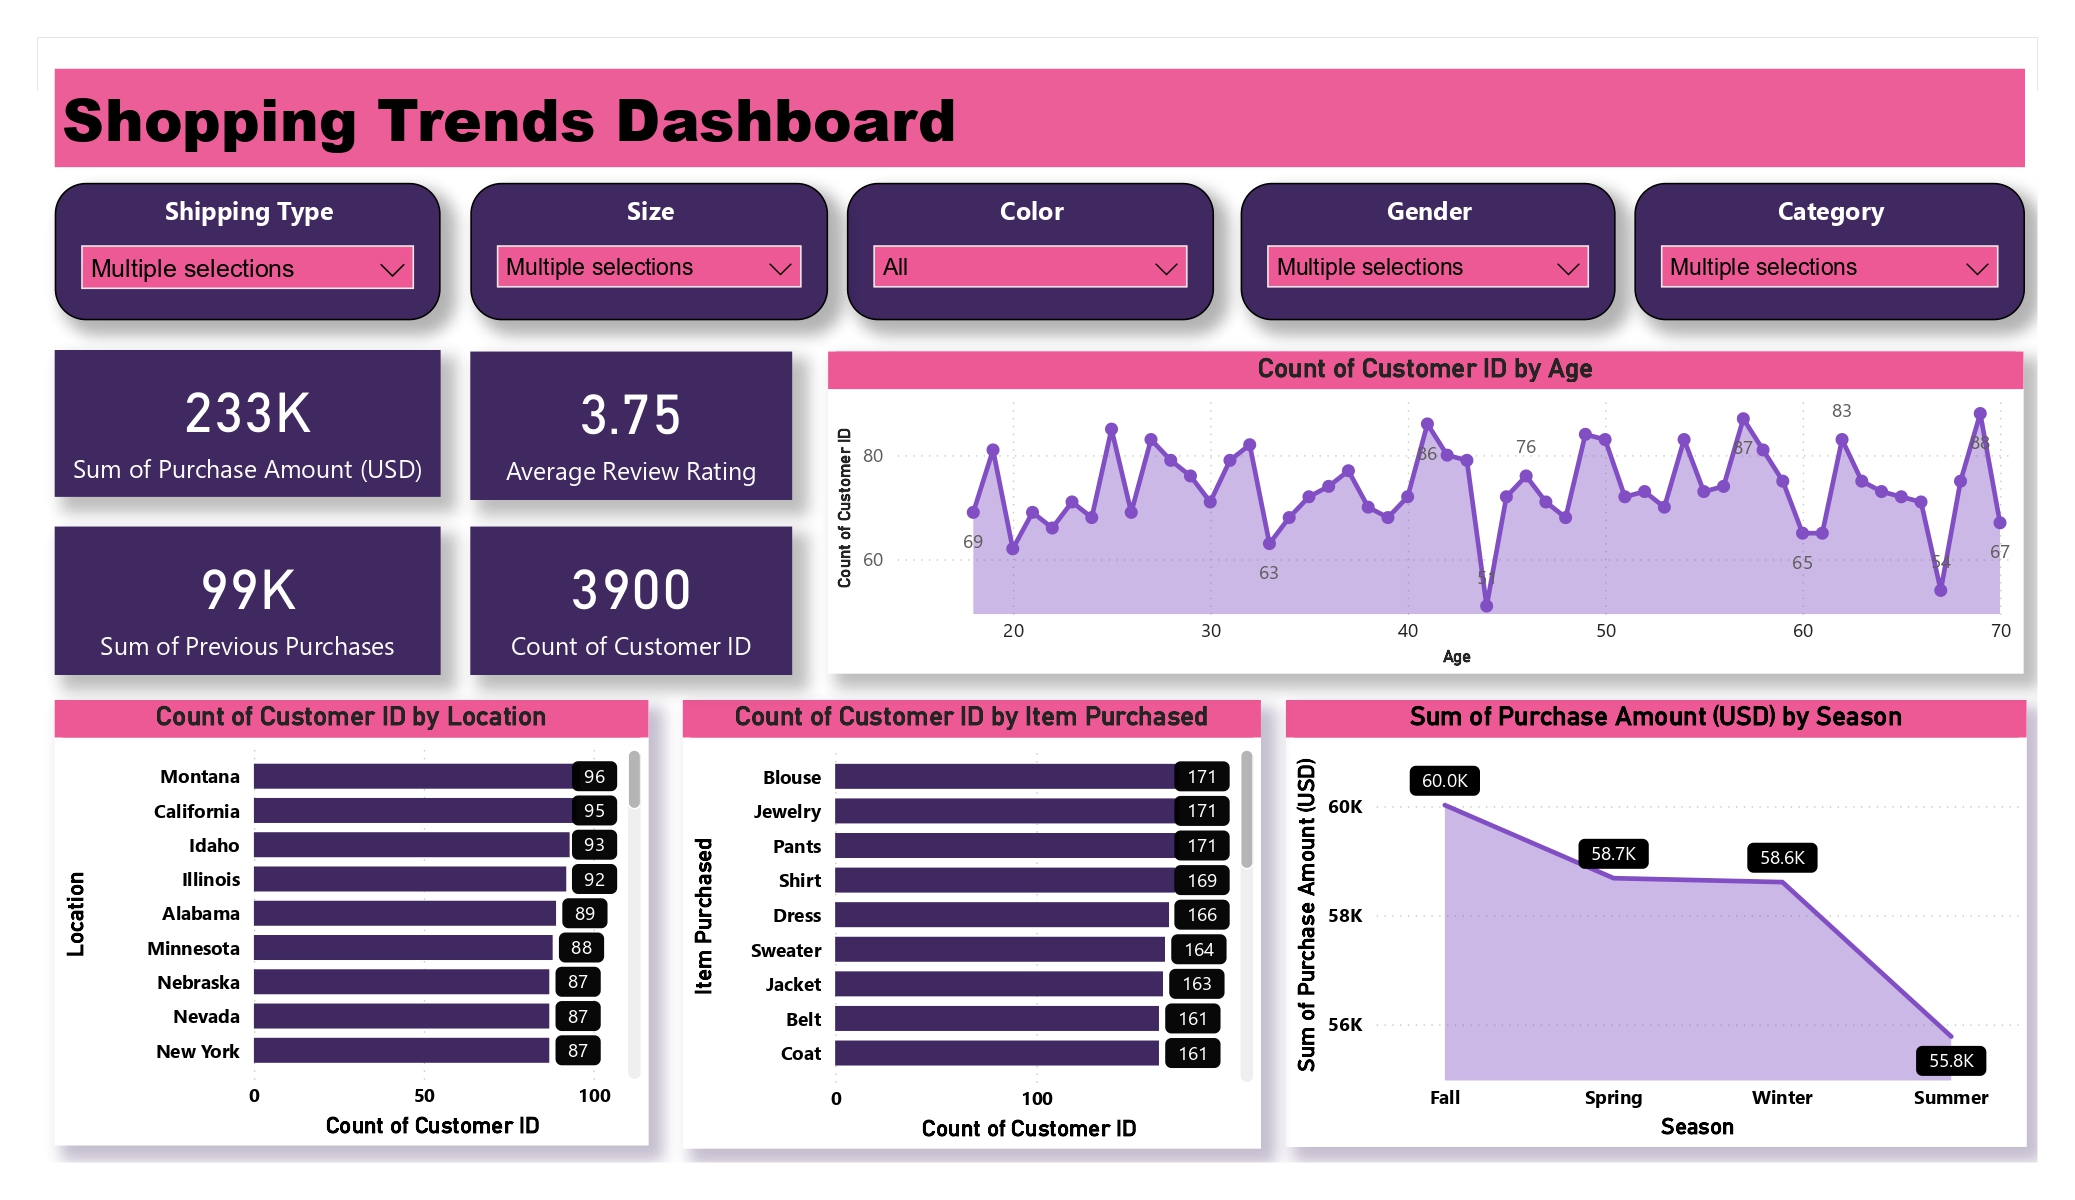

This screenshot's page, from the dashboard's own definition file:
{"tool":"powerbi","page":{"name":"Page 1","canvas":[1280,720],"ordinal":0},"visuals":[{"type":"areaChart","fields":{"Category":["shopping_trends.Season"],"Y":["Sum(shopping_trends.Purchase Amount (USD))"]},"box":[798.6,424.3,474.3,285.7],"z":0},{"type":"card","fields":{"Values":["shopping_trends.Average Review Rating"]},"box":[276.7,201.1,206.7,94.4],"z":1000},{"type":"slicer","title":"Gender","fields":{"Values":["shopping_trends.Gender"]},"box":[770,93.3,240,87.8],"z":2000},{"type":"slicer","title":"Color","fields":{"Values":["shopping_trends.Color"]},"box":[517.8,93.3,235.6,87.8],"z":3000},{"type":"slicer","title":"Category","fields":{"Values":["shopping_trends.Category"]},"box":[1022.2,93.3,250,87.8],"z":4000},{"type":"card","fields":{"Values":["Sum(shopping_trends.Previous Purchases)"]},"box":[11.1,313.3,246.7,94.4],"z":5000},{"type":"card","fields":{"Values":["Sum(shopping_trends.Purchase Amount (USD))"]},"box":[11.1,200,246.7,94.4],"z":6000},{"type":"slicer","title":"Size","fields":{"Values":["shopping_trends.Size"]},"box":[276.7,93.3,228.9,87.8],"z":7000},{"type":"clusteredBarChart","fields":{"Y":["CountNonNull(shopping_trends.Customer ID)"],"Category":["shopping_trends.Item Purchased"]},"box":[412.9,424.3,370,287.1],"z":8000},{"type":"card","fields":{"Values":["CountNonNull(shopping_trends.Customer ID)"]},"box":[276.7,313.3,206.7,94.4],"z":9000},{"type":"slicer","title":"Shipping Type","fields":{"Values":["shopping_trends.Shipping Type"]},"box":[11.1,93.3,246.7,87.8],"z":10000},{"type":"textbox","box":[10.7,19.9,1261.6,62.8],"z":11000},{"type":"clusteredBarChart","fields":{"Y":["CountNonNull(shopping_trends.Customer ID)"],"Category":["shopping_trends.Location"]},"box":[11.4,424.3,380,284.3],"z":12000},{"type":"lineChart","fields":{"Y":["CountNonNull(shopping_trends.Customer ID)"],"Category":["shopping_trends.Age"]},"box":[505.7,201.4,765.7,205.7],"z":13000}]}

Visuals, with their boxes in screenshot pixels (x1, y1, x2, y2):
areaChart - shopping_trends.Season x Sum(shopping_trends.Purchase Amount (USD)): bbox(1285, 700, 2026, 1147)
card - shopping_trends.Average Review Rating: bbox(470, 352, 793, 499)
"Gender" slicer: bbox(1241, 183, 1616, 320)
"Color" slicer: bbox(847, 183, 1215, 320)
"Category" slicer: bbox(1635, 183, 2025, 320)
card - Sum(shopping_trends.Previous Purchases): bbox(55, 527, 440, 675)
card - Sum(shopping_trends.Purchase Amount (USD)): bbox(55, 350, 440, 497)
"Size" slicer: bbox(470, 183, 828, 320)
clusteredBarChart - CountNonNull(shopping_trends.Customer ID) x shopping_trends.Item Purchased: bbox(683, 700, 1261, 1149)
card - CountNonNull(shopping_trends.Customer ID): bbox(470, 527, 793, 675)
"Shipping Type" slicer: bbox(55, 183, 440, 320)
textbox: bbox(54, 69, 2025, 167)
clusteredBarChart - CountNonNull(shopping_trends.Customer ID) x shopping_trends.Location: bbox(55, 700, 649, 1145)
lineChart - CountNonNull(shopping_trends.Customer ID) x shopping_trends.Age: bbox(828, 352, 2024, 674)
